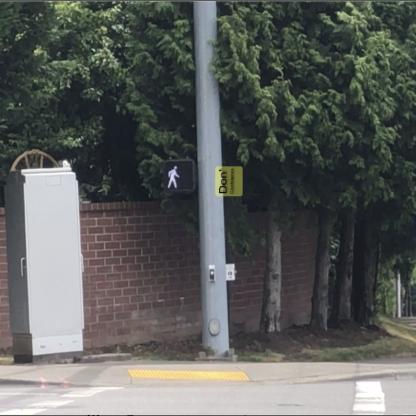Walk: (162, 162, 197, 191)
